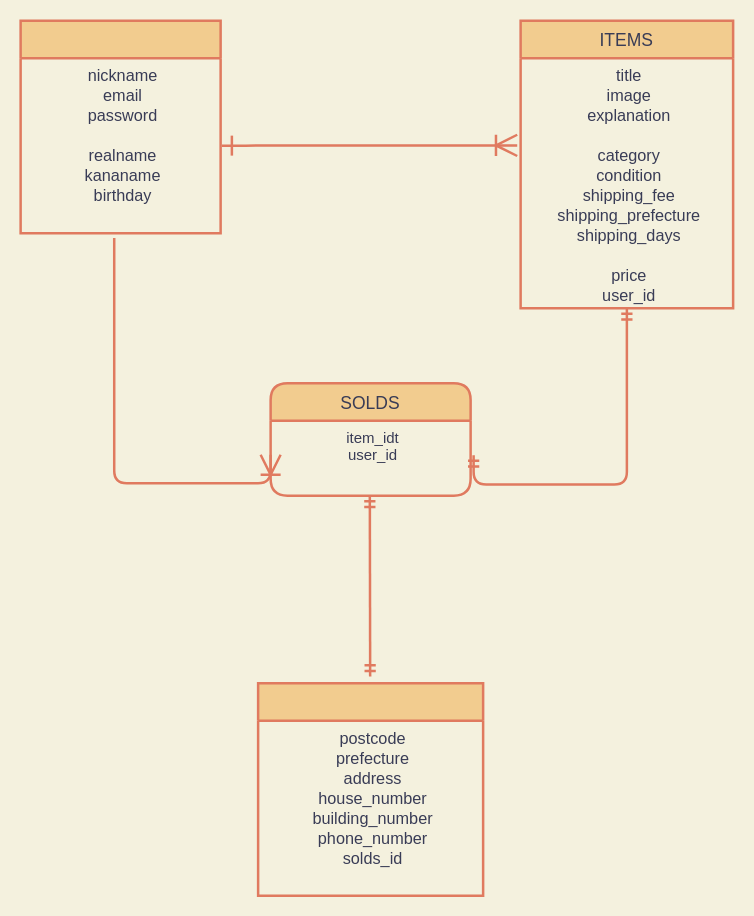
Image size: 754x916. Some labels were removed from this diagram. The box of each missing label's shape, as (x1, y1, x2, y2) in pixels:
ADDRESSES: (256, 681, 484, 896)
USERS: (19, 19, 221, 234)
